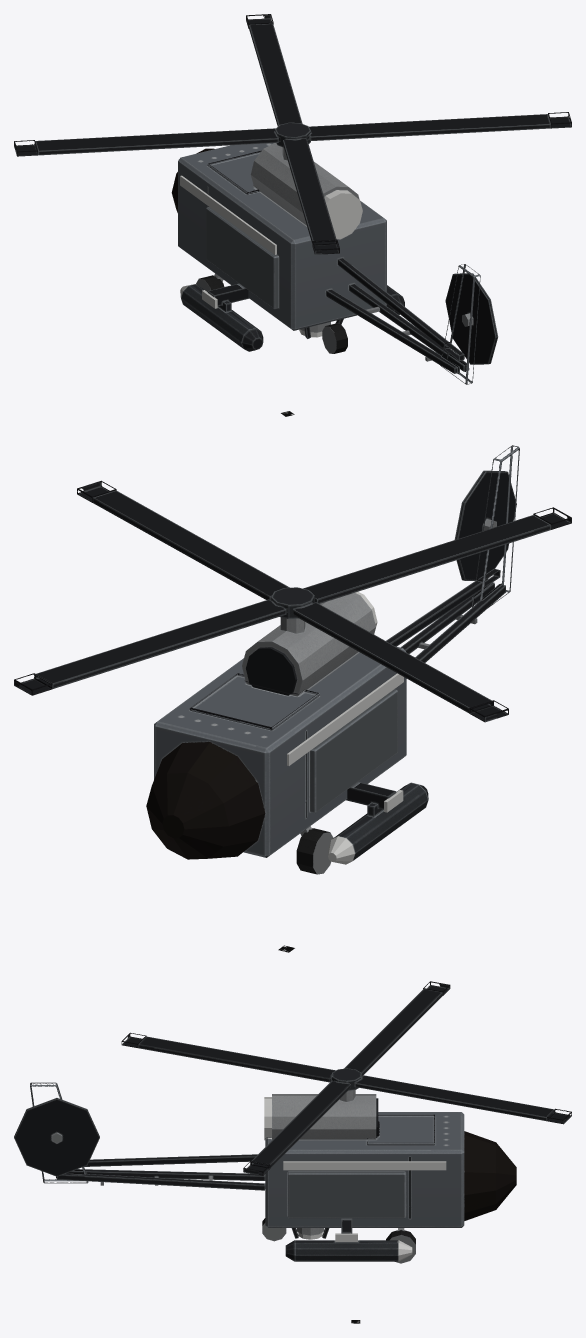
The model's file is chs_leech.fbx.
3 renders of one model, top to bottom at view 1: azimuth 30°, elevation 25°; view 2: azimuth 150°, elevation 25°; view 3: azimuth 270°, elevation 25°, orthographic. The views are drawn at different scales.
Visible parts, largest first — view 1: base_bar, rotor_bar, tailRotor_bar, rack_bar, base_glow_running_bar; view 2: base_bar, rotor_bar, tailRotor_bar, rack_bar, base_glow_running_bar, rack_glow_weapon_bar; view 3: base_bar, rotor_bar, tailRotor_bar, rack_bar, base_glow_running_bar, rack_glow_weapon_bar.
Part boxes in pixels (x1=…): base_bar: x1=171, y1=143, x2=480, y2=384; rotor_bar: x1=14, y1=14, x2=571, y2=254; tailRotor_bar: x1=445, y1=273, x2=498, y2=364; rack_bar: x1=181, y1=283, x2=404, y2=351; base_glow_running_bar: x1=180, y1=175, x2=362, y2=254; base_bar: x1=146, y1=445, x2=519, y2=874; rotor_bar: x1=14, y1=480, x2=571, y2=722; tailRotor_bar: x1=454, y1=470, x2=516, y2=581; rack_bar: x1=332, y1=782, x2=428, y2=860; base_glow_running_bar: x1=287, y1=591, x2=403, y2=765; rack_glow_weapon_bar: x1=328, y1=790, x2=403, y2=864; base_bar: x1=30, y1=1082, x2=516, y2=1263; rotor_bar: x1=121, y1=981, x2=571, y2=1175; tailRotor_bar: x1=14, y1=1098, x2=99, y2=1176; rack_bar: x1=285, y1=1218, x2=398, y2=1261; base_glow_running_bar: x1=264, y1=1097, x2=446, y2=1170; rack_glow_weapon_bar: x1=335, y1=1233, x2=412, y2=1261.
Size of the model in its own units: 995 by 602 by 1233.
Materials: 2 (2 with a texture image).
